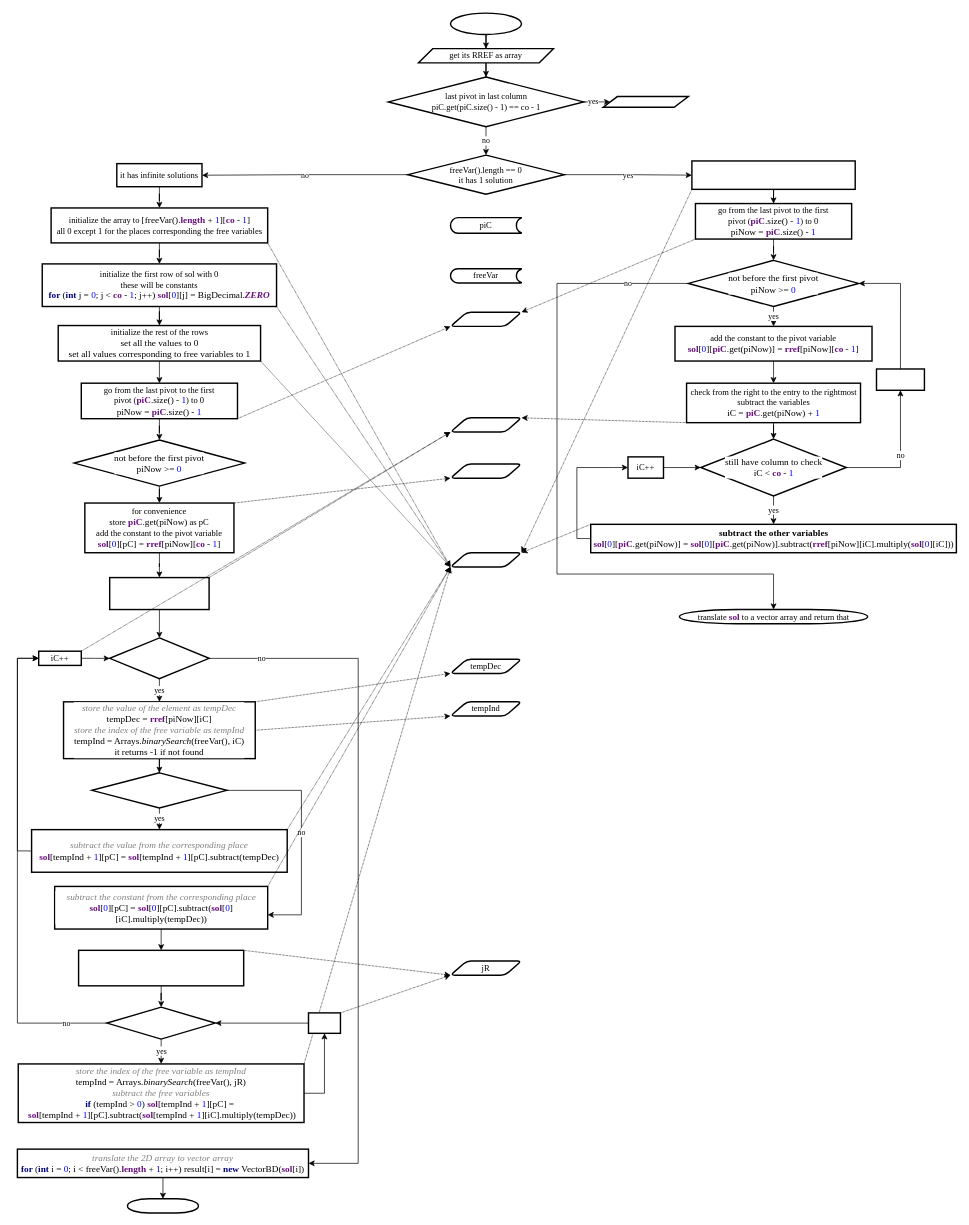
Some shapes in this 969 by 1225 pixel diagram are drawn without their labels. The centre of each missing label's shape, as x and y in pixels:
check entries to the right iC = pC + 1: pixel 159 593
check to the right of the pivot and left to the constant jR = piNow + 1: pixel 161 967
enough columns iC < co - 1: pixel 159 658
enough rows jR < co: pixel 161 1022
iC: pixel 485 424
it's a free variable tempInd >= 0: pixel 159 790
jR++: pixel 324 1023
no solution: pixel 645 101
pC: pixel 485 471
piNow: pixel 485 319
piNow--: pixel 900 379
return result: pixel 162 1205
set solution to [freeVar(). length + 1 ][ co - 1 ] and initialize it with 0s: pixel 773 175
sol[][]: pixel 485 559
solve the matrix: pixel 485 23
